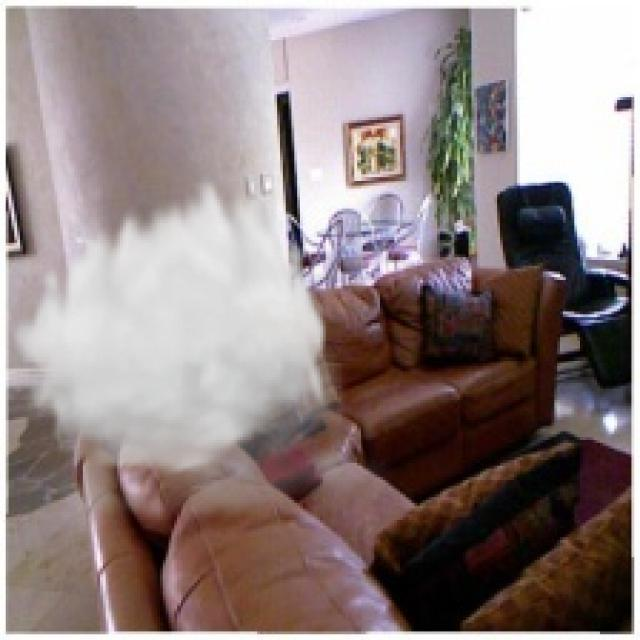Smoke: (9, 168, 398, 548)
